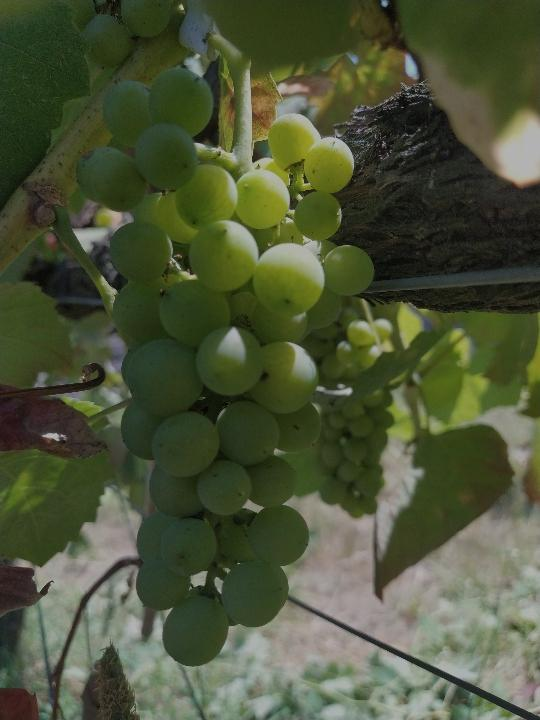grape: (71, 67, 376, 669)
